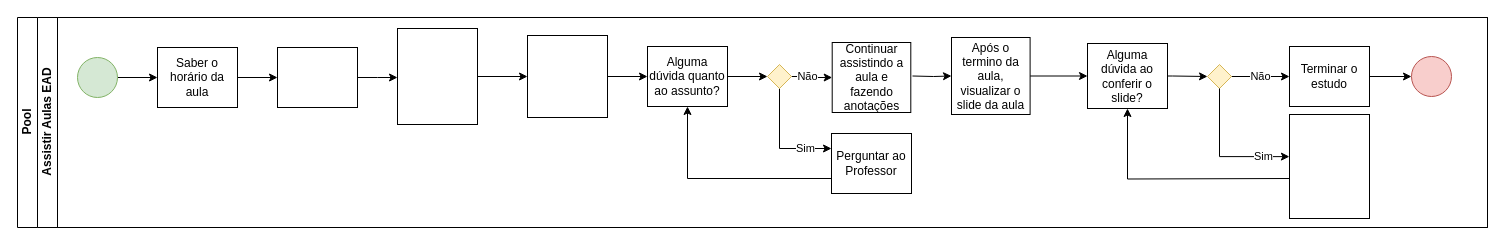
Some shapes in this 1505 by 245 pixel diagram are drawn without their labels. Here are the shapes that lost their labels. From the top down, the box of each, then its label:
(276, 46, 358, 108): Preparar o computador/ celular/tablet
(396, 28, 478, 124): Entrar na sala com 5 minutos de antecedência do horário previsto
(526, 34, 608, 118): Assistir a aula e fazer anotações dos assuntos abordados
(1288, 114, 1370, 218): Postar a dúvida no fórum do sigaa ou entrar em contato com o professor
